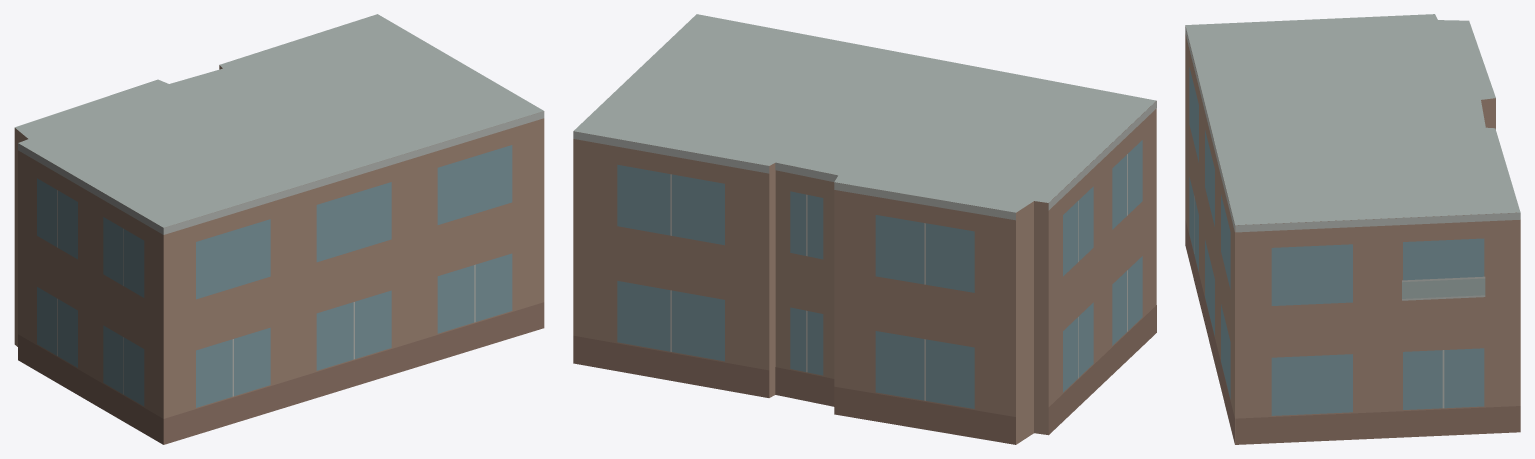
Rendered from survey-upis-33040728.glb.
The picture shows the model from 3 angles, left to right: view 1: azimuth 30°, elevation 25°; view 2: azimuth 150°, elevation 25°; view 3: azimuth 270°, elevation 25°; orthographic projection. The views are drawn at different scales.
Parts seen in each view (by area): view 1: survey-upis-33040728.tmp; view 2: survey-upis-33040728.tmp; view 3: survey-upis-33040728.tmp.
Part boxes in pixels (x1=…): survey-upis-33040728.tmp: x1=14, y1=14, x2=544, y2=444; survey-upis-33040728.tmp: x1=573, y1=14, x2=1156, y2=444; survey-upis-33040728.tmp: x1=1185, y1=14, x2=1520, y2=444.
Bounding box in the file's own units: 15.27 × 7.4 × 10.25.
